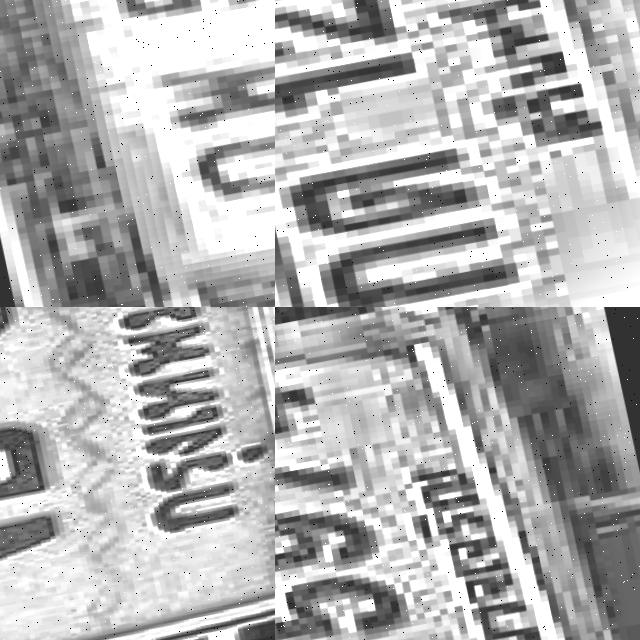license-plate: (275, 0, 640, 307), (275, 309, 598, 640), (0, 307, 275, 640), (0, 0, 275, 307)
